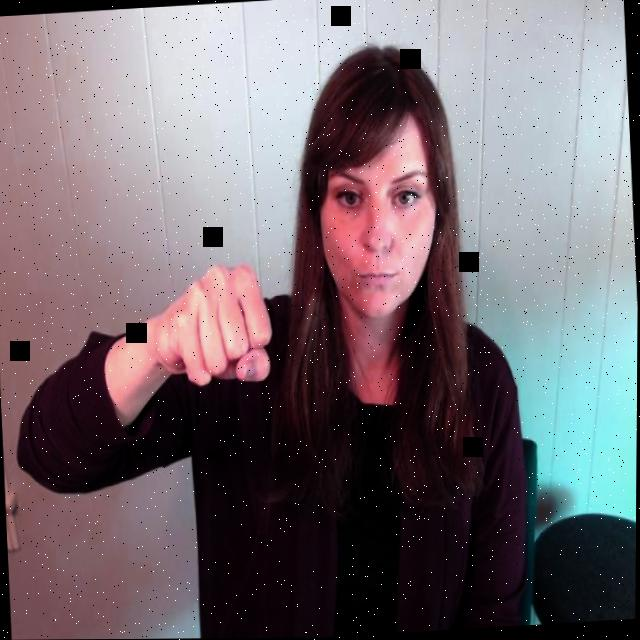Rock: (144, 259, 280, 403)
